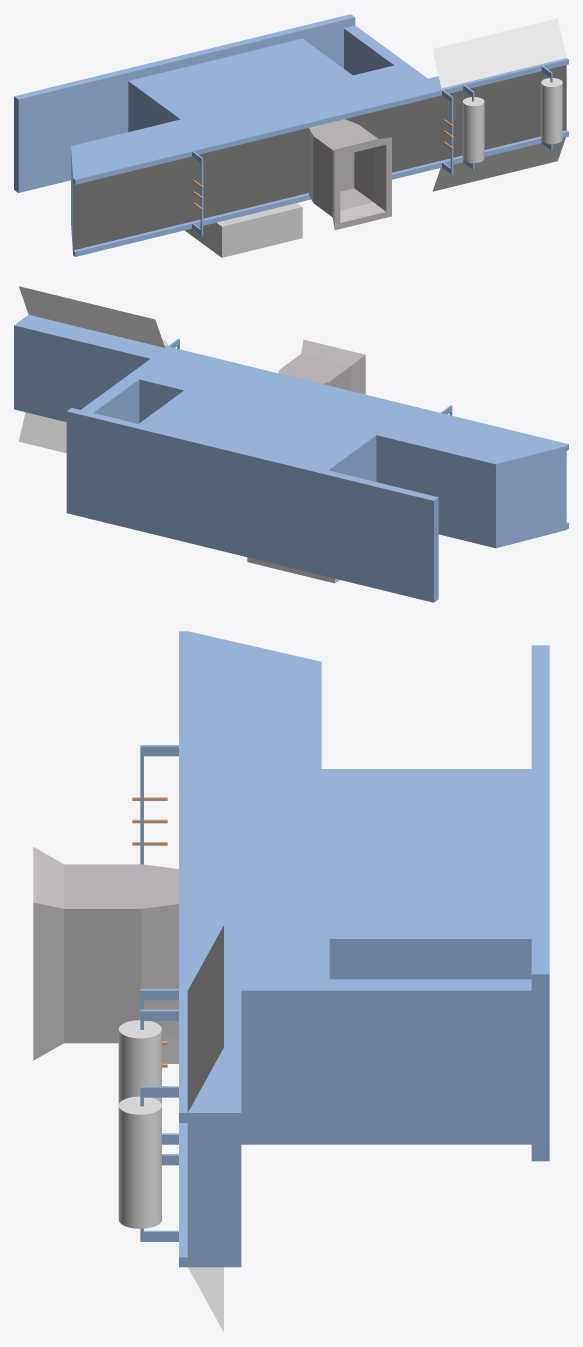
File: pasting_machine.dae
3 views of the same model, one above another, from view 1: azimuth 30°, elevation 25°; view 2: azimuth 150°, elevation 25°; view 3: azimuth 270°, elevation 25° (orthographic). The views are drawn at different scales.
Visible parts, largest first — view 1: instance_0, instance_0_001, instance_0_002, instance_0_013, instance_0_003, instance_0_008; view 2: instance_0, instance_0_002, instance_0_013, instance_0_003; view 3: instance_0, instance_0_013, instance_0_008, instance_0_002.
Boxes of the visible parts, <box> form: instance_0: <box>14,14,568,256</box>; instance_0_001: <box>73,65,566,250</box>; instance_0_002: <box>432,18,566,191</box>; instance_0_013: <box>309,119,391,230</box>; instance_0_003: <box>185,203,302,257</box>; instance_0_008: <box>462,78,562,163</box>; instance_0: <box>14,314,568,602</box>; instance_0_002: <box>19,286,164,453</box>; instance_0_013: <box>278,339,365,394</box>; instance_0_003: <box>247,557,339,583</box>; instance_0: <box>140,631,549,1267</box>; instance_0_013: <box>33,847,178,1060</box>; instance_0_008: <box>118,1020,161,1228</box>; instance_0_002: <box>187,925,223,1332</box>.
Bounding box in the file's own units: 1240 × 343 × 562.
